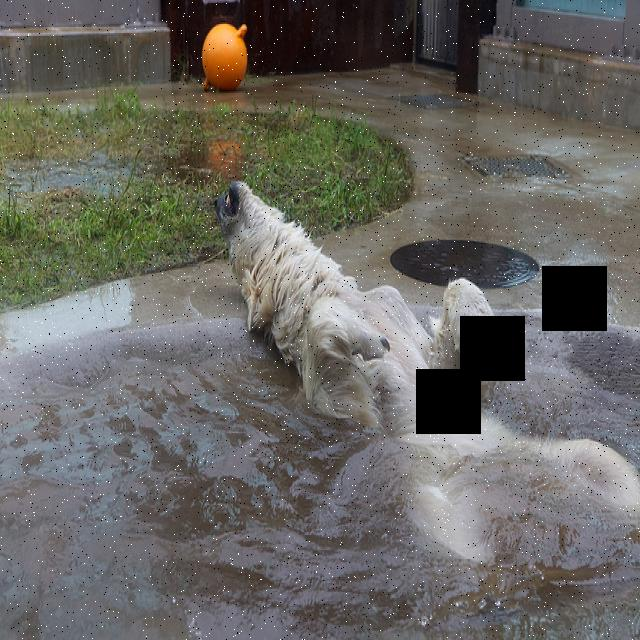Bear: (213, 174, 640, 588)
